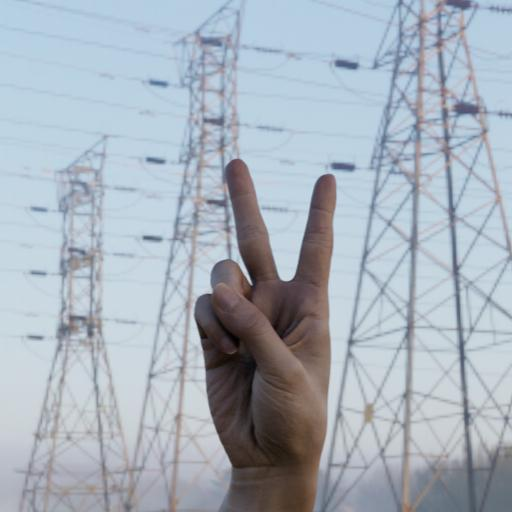V: (184, 151, 360, 494)
